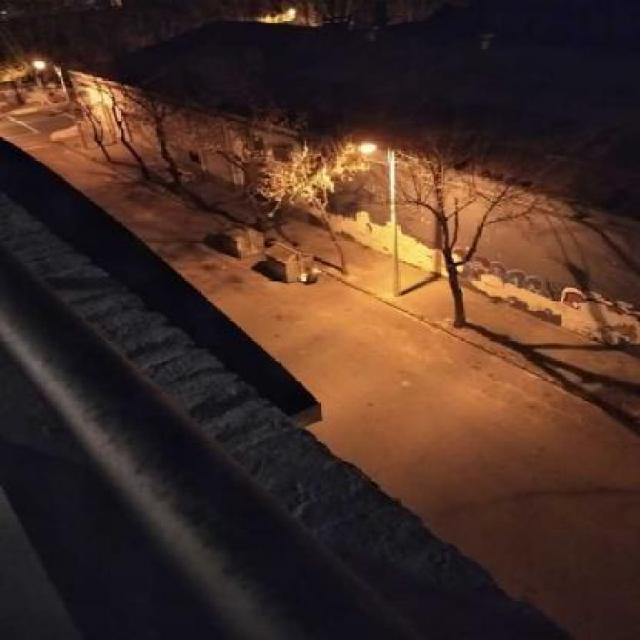garbage: (286, 263, 327, 286)
